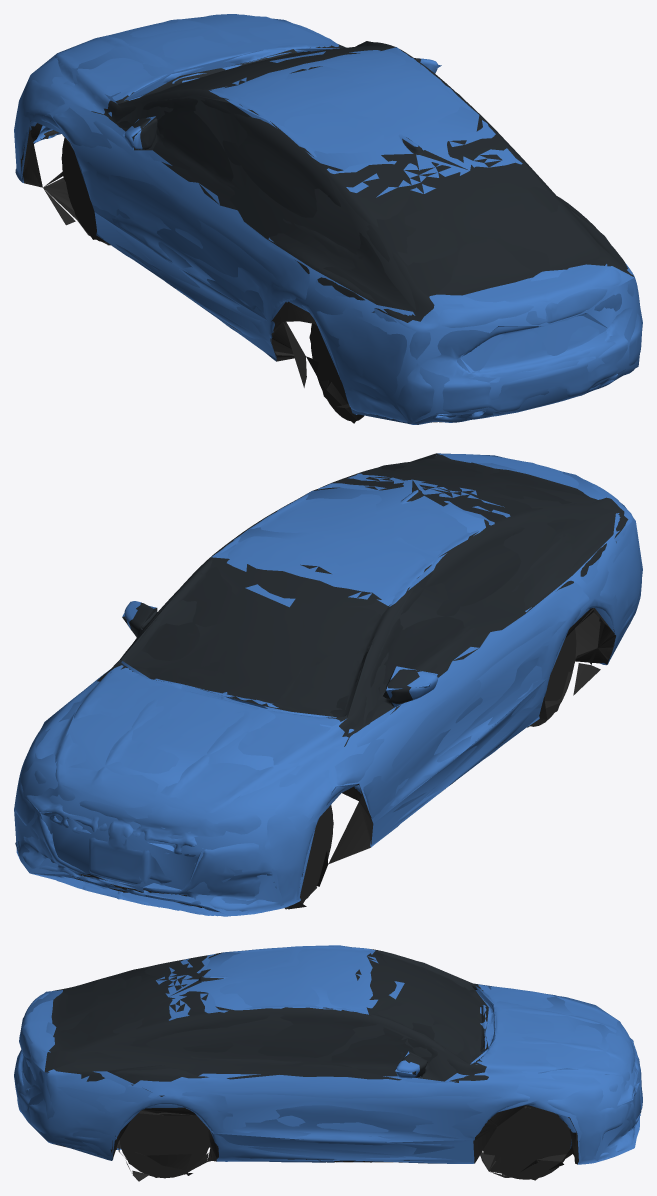
The model's file is audi-a7.glb.
3 views of the same model, one above another, from view 1: azimuth 30°, elevation 25°; view 2: azimuth 150°, elevation 25°; view 3: azimuth 270°, elevation 25° (orthographic). The views are drawn at different scales.
Visible parts, largest first — view 1: body, far; view 2: body, far; view 3: body, far.
Part boxes in pixels (x1,y1,x2,y2): body: (14, 14, 641, 424); far: (14, 16, 642, 424); body: (14, 454, 641, 916); far: (14, 453, 642, 915); body: (14, 946, 642, 1181); far: (15, 945, 641, 1180).
Bounding box in the file's own units: 2.11 × 1.51 × 5.07.
